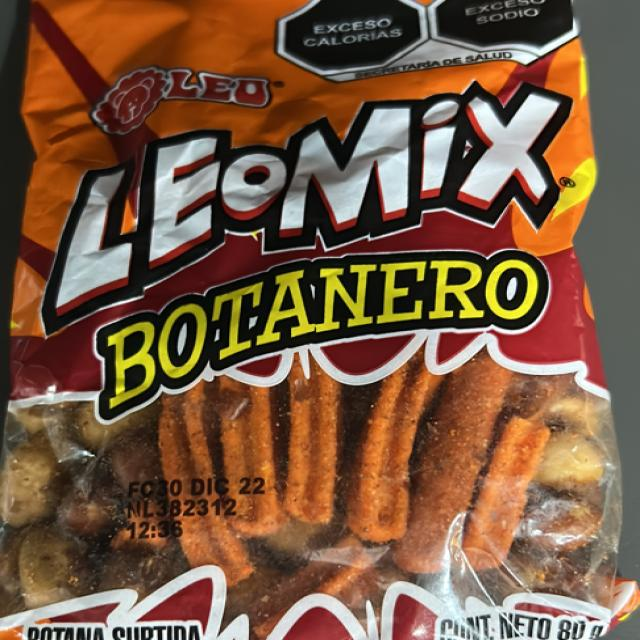leoMix: (34, 3, 585, 640)
